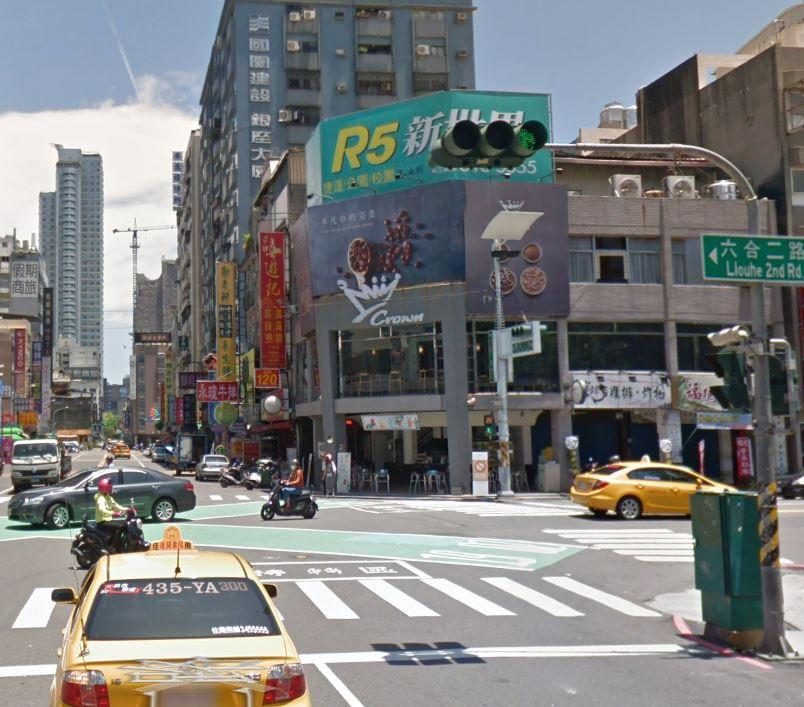car: (43, 532, 312, 707), (0, 459, 200, 534)
green_traffic_light: (425, 114, 549, 172)
motorcycle: (66, 508, 155, 573), (252, 470, 323, 521)
